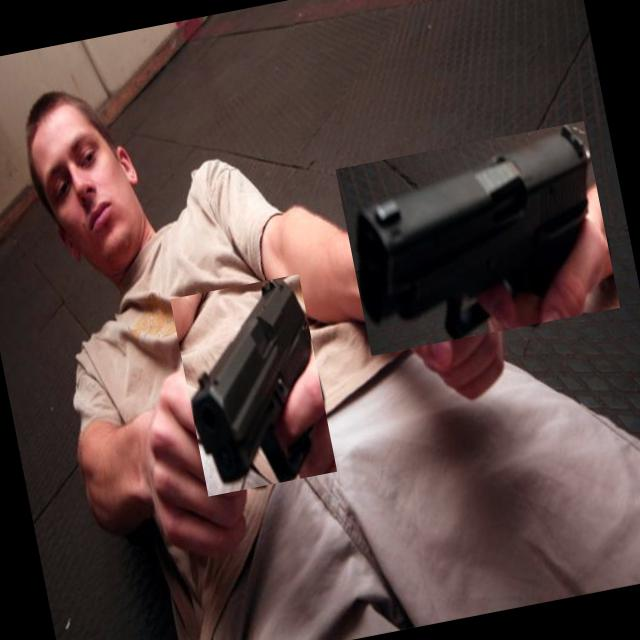Gun: (358, 126, 591, 339), (192, 279, 313, 482)
